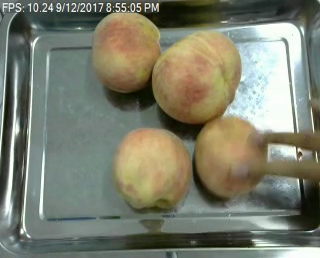Peach: (152, 28, 242, 124), (114, 126, 191, 210), (194, 115, 268, 197), (90, 10, 159, 91)
